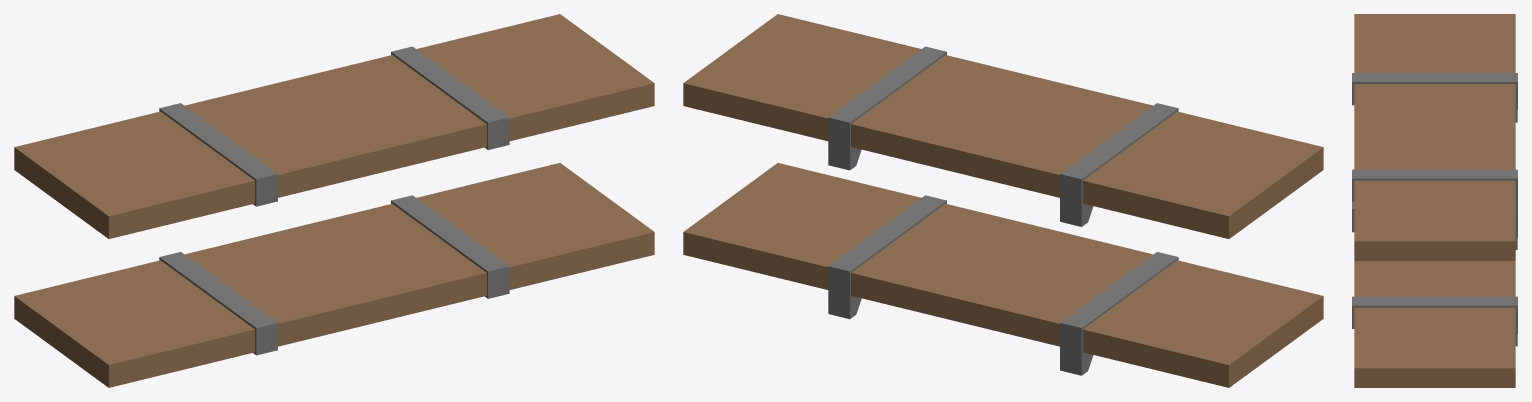
File: Mensole belle.fbx
3 views of the same model, side by side, from view 1: azimuth 30°, elevation 25°; view 2: azimuth 150°, elevation 25°; view 3: azimuth 270°, elevation 25° (orthographic). The views are drawn at different scales.
Visible parts, largest first — view 1: Shelf_Wall_3, Shelf_Wall_4; view 2: Shelf_Wall_3, Shelf_Wall_4; view 3: Shelf_Wall_3, Shelf_Wall_4.
Part boxes in pixels (left/top/right/bottom): Shelf_Wall_3: left=14, top=14, right=654, bottom=238; Shelf_Wall_4: left=14, top=163, right=654, bottom=387; Shelf_Wall_3: left=683, top=14, right=1323, bottom=238; Shelf_Wall_4: left=683, top=163, right=1323, bottom=387; Shelf_Wall_3: left=1352, top=14, right=1517, bottom=260; Shelf_Wall_4: left=1352, top=202, right=1517, bottom=387.
Bounding box in the file's own units: 50 × 17.21 × 15.4.
